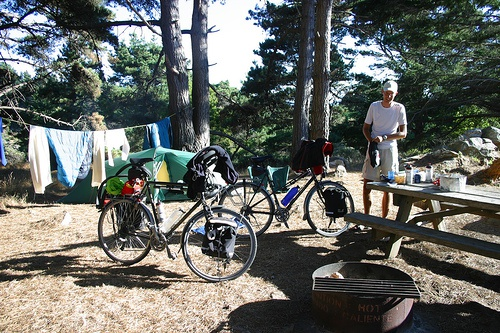non-vehicle: (97, 150, 257, 282), (222, 142, 355, 230)
